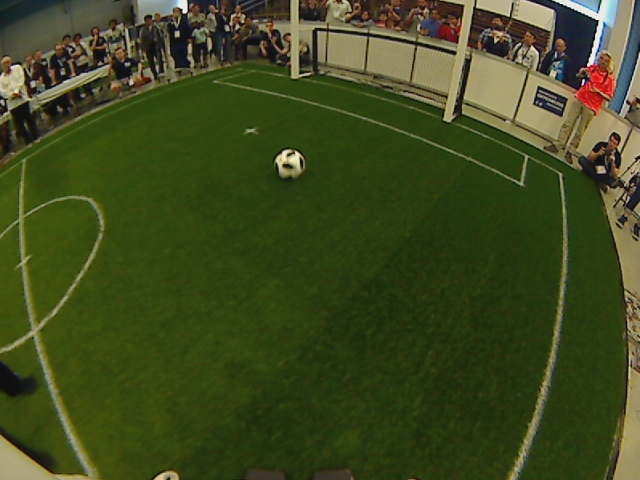ball: (272, 148, 308, 181)
goalpost: (289, 1, 477, 122)
